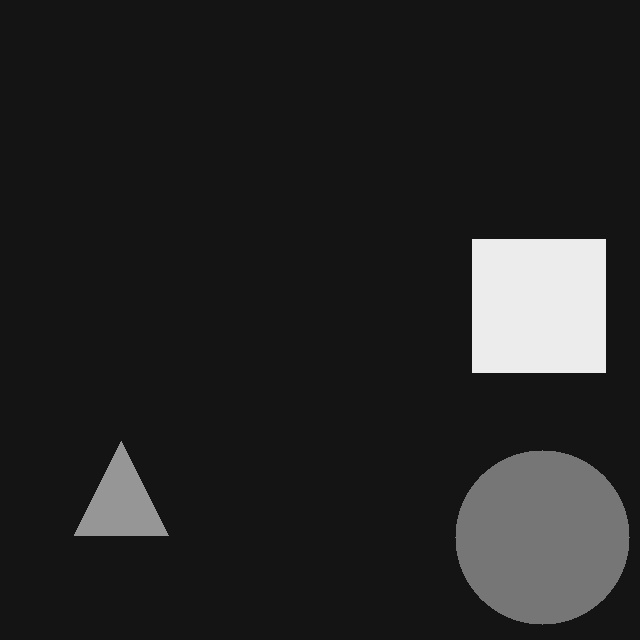circle: (455, 450, 629, 624)
square: (472, 239, 605, 372)
triangle: (74, 441, 168, 535)
